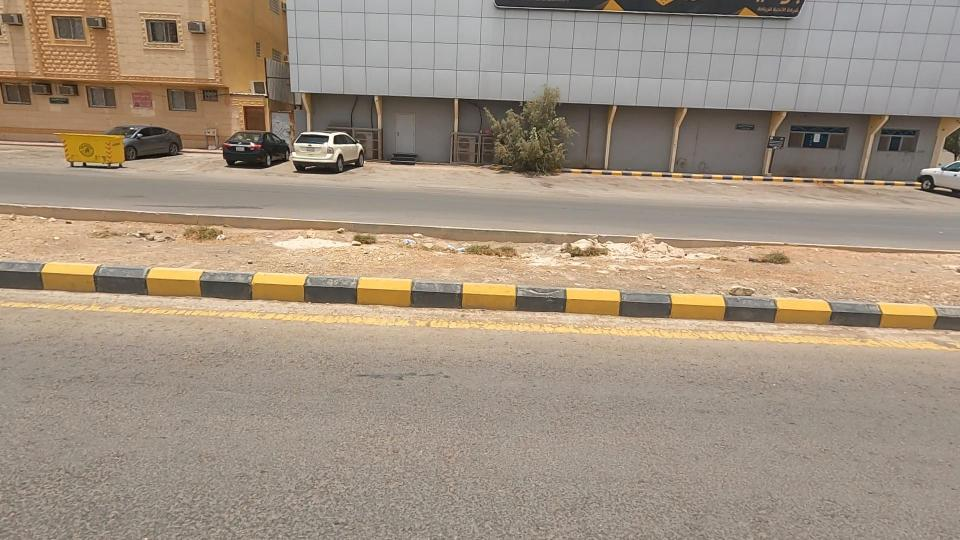CLUTTER_SIDEWALK: (310, 181, 960, 358), (132, 181, 557, 327), (0, 163, 266, 307)
